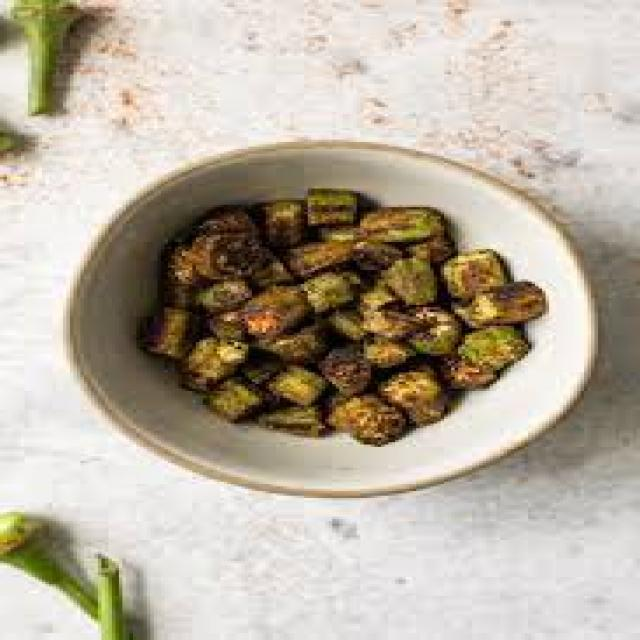Bhindi Masala: (129, 186, 548, 451)
